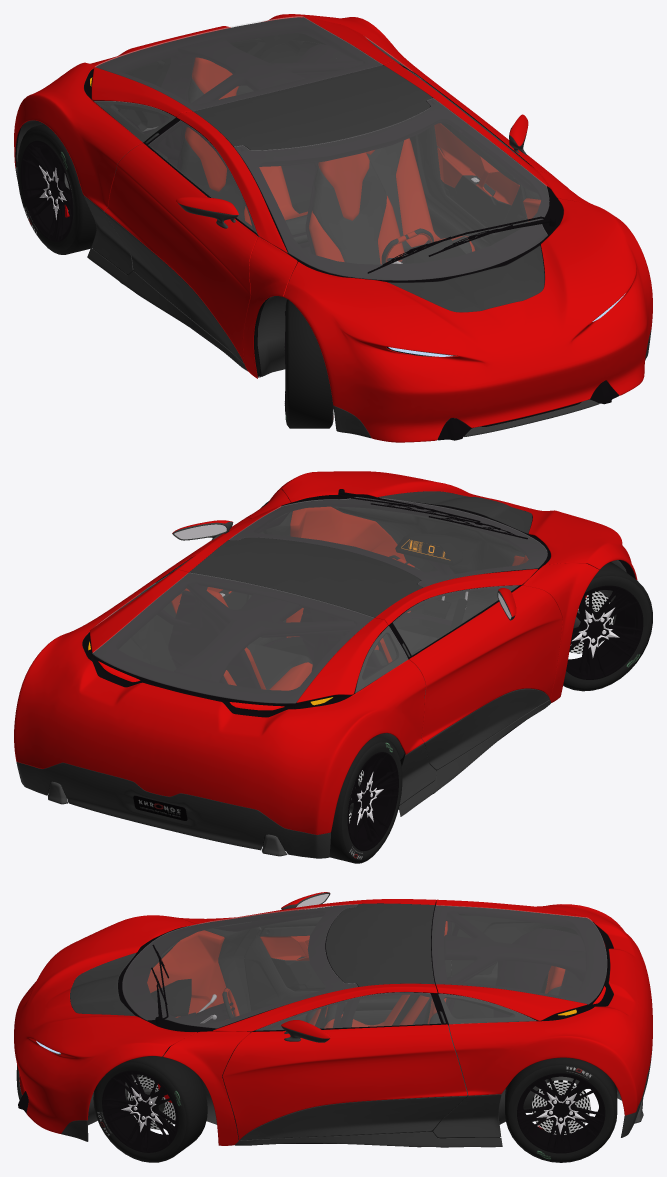
File: car.glb
3 views of the same model, one above another, from view 1: azimuth 30°, elevation 25°; view 2: azimuth 150°, elevation 25°; view 3: azimuth 270°, elevation 25° (orthographic). The views are drawn at different scales.
Visible parts, largest first — view 1: BodyRearPanelsColor1, BodyWindshield, BodyWindshieldGasket, BodyRoofPanel, InteriorDashSides, InteriorDashMid, InteriorSeatsColor2, object 21, WheelFrontLRim, BodyUnderside, InteriorMid, InteriorSteeringDash; view 2: BodyRearPanelsColor1, BodyWindshield, BodyRoofPanel, BodyWindshieldGasket, InteriorDashMid, WheelFrontLRim, object 21, InteriorDashSides, InteriorSeatsColor2, InteriorFloormats, InteriorSteeringDash, BodyUnderside (+3 smaller); view 3: BodyRearPanelsColor1, BodyWindshield, BodyRoofPanel, BodyWindshieldGasket, object 21, WheelFrontLRim, InteriorDashMid, InteriorDashSides, InteriorMid, WheelFrontLBrakeDisc, BodyUnderside, InteriorSeatsColor2 (+1 smaller).
Part boxes in pixels (box(x1,y1,x2,y2)): BodyRearPanelsColor1: box(14, 14, 652, 442); BodyWindshield: box(94, 16, 549, 280); BodyWindshieldGasket: box(16, 17, 618, 440); BodyRoofPanel: box(15, 65, 651, 438); InteriorDashSides: box(185, 57, 540, 349); InteriorDashMid: box(15, 33, 526, 281); InteriorSeatsColor2: box(180, 78, 472, 264); object 21: box(17, 124, 333, 428); WheelFrontLRim: box(20, 140, 285, 414); BodyUnderside: box(16, 78, 596, 430); InteriorMid: box(93, 173, 557, 376); InteriorSteeringDash: box(404, 239, 465, 263); BodyRearPanelsColor1: box(14, 471, 637, 834); BodyWindshield: box(92, 497, 547, 703); BodyRoofPanel: box(16, 491, 550, 858); BodyWindshieldGasket: box(82, 489, 635, 753); InteriorDashMid: box(48, 502, 528, 850); WheelFrontLRim: box(347, 585, 643, 851); object 21: box(260, 501, 652, 863); InteriorDashSides: box(171, 506, 528, 690); InteriorSeatsColor2: box(246, 628, 437, 689); InteriorFloormats: box(269, 598, 467, 659); InteriorSteeringDash: box(395, 533, 462, 566); BodyUnderside: box(48, 560, 626, 856); BodyRearPanelsColor1: box(14, 892, 652, 1145); BodyWindshield: box(122, 904, 606, 1030); BodyRoofPanel: box(16, 892, 652, 1147); BodyWindshieldGasket: box(18, 901, 613, 1143); object 21: box(93, 1054, 617, 1162); WheelFrontLRim: box(102, 1070, 605, 1153); InteriorDashMid: box(118, 908, 613, 1030); InteriorDashSides: box(147, 921, 565, 1028); InteriorMid: box(205, 921, 499, 1143); WheelFrontLBrakeDisc: box(127, 1075, 590, 1134); BodyUnderside: box(39, 927, 643, 1125); InteriorSeatsColor2: box(304, 973, 560, 1028).
Bounding box in the file's own units: 2.54 × 1.15 × 4.36.
Materials: 23 (18 with a texture image).
